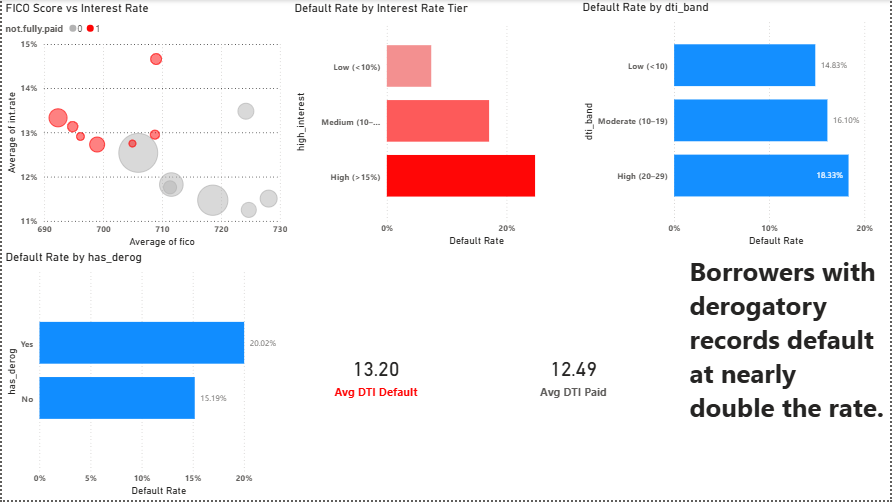

Layout of this report page (visuals, bound fields, positions):
{"tool":"powerbi","page":{"name":"Borrower Risk Profile","canvas":[1280,720],"ordinal":2},"visuals":[{"type":"scatterChart","title":"FICO Score vs Interest Rate ","fields":{"Y":["Avg(loan_default_export.int.rate)"],"Series":["loan_default_export.not.fully.paid"],"Size":["loan_default_export.Total Loans"],"Category":["loan_default_export.purpose"],"X":["Avg(loan_default_export.fico)"]},"box":[0,1.4,416.2,360],"z":0},{"type":"clusteredBarChart","title":"Default Rate by Interest Rate Tier","fields":{"Category":["loan_default_export.high_interest"],"Y":["loan_default_export.Default Rate"]},"box":[416.2,1.4,414.7,358.6],"z":1000},{"type":"clusteredBarChart","fields":{"Category":["loan_default_export.dti_band"],"Y":["loan_default_export.Default Rate"]},"box":[830.9,0,449.3,360],"z":2000},{"type":"clusteredBarChart","fields":{"Category":["loan_default_export.has_derog"],"Y":["loan_default_export.Default Rate"]},"box":[0,360,416.2,360],"z":3000},{"type":"card","fields":{"Values":["loan_default_export.Avg DTI Default"]},"box":[416.2,360,244.8,360],"z":4000},{"type":"card","fields":{"Values":["loan_default_export.Avg DTI Paid"]},"box":[661,360,324,360],"z":5000},{"type":"textbox","box":[985,360,295,360],"z":6000}]}

Visuals, with their boxes in screenshot pixels (x1, y1, x2, y2), scaled from the page's 1280x720 canvas onto the 892x502 screenshot:
"FICO Score vs Interest Rate " scatterChart: detection(0, 1, 290, 252)
"Default Rate by Interest Rate Tier" clusteredBarChart: detection(290, 1, 579, 251)
clusteredBarChart - loan_default_export.dti_band x loan_default_export.Default Rate: detection(579, 0, 891, 251)
clusteredBarChart - loan_default_export.has_derog x loan_default_export.Default Rate: detection(0, 251, 290, 501)
card - loan_default_export.Avg DTI Default: detection(290, 251, 461, 501)
card - loan_default_export.Avg DTI Paid: detection(461, 251, 686, 501)
textbox: detection(686, 251, 891, 501)
